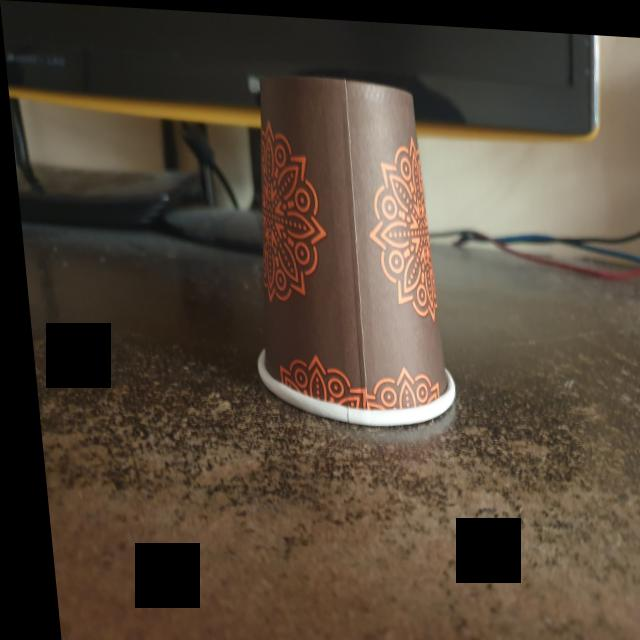cups: (222, 58, 464, 434)
